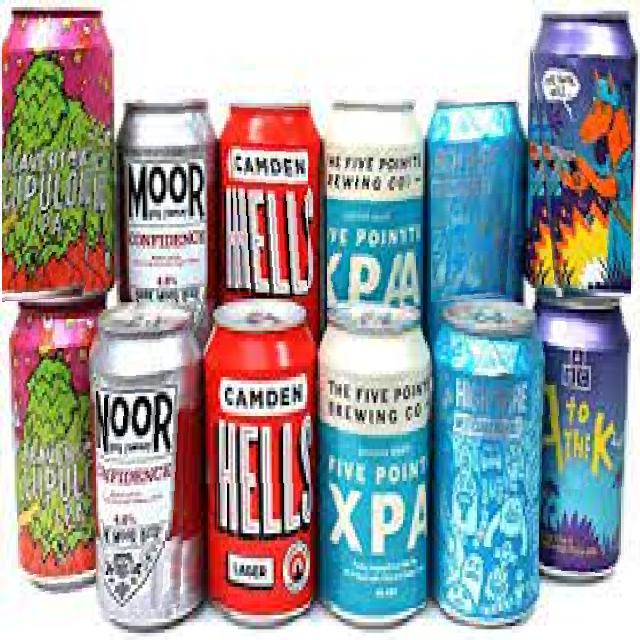Cans: (2, 18, 108, 303), (322, 321, 426, 608), (213, 314, 310, 616), (529, 15, 631, 297), (440, 324, 535, 626), (104, 330, 194, 612), (12, 319, 96, 607), (539, 313, 630, 576), (117, 97, 208, 327), (327, 99, 414, 308), (431, 102, 519, 303), (227, 105, 308, 296)
